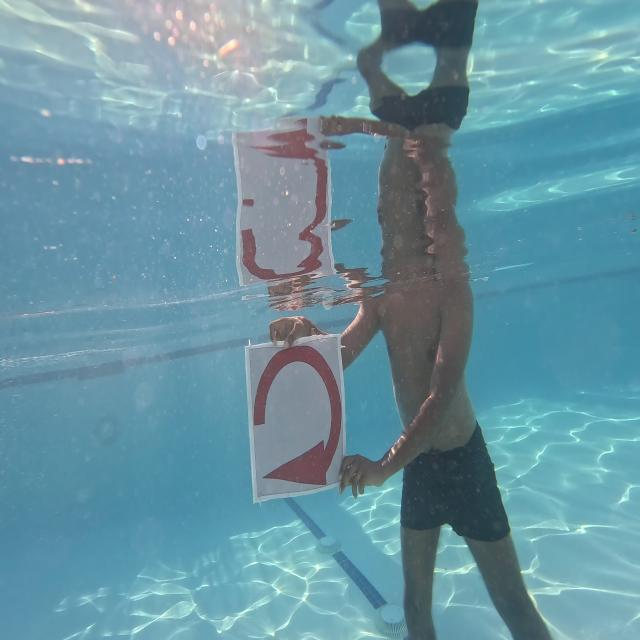red_side: (241, 330, 350, 502)
